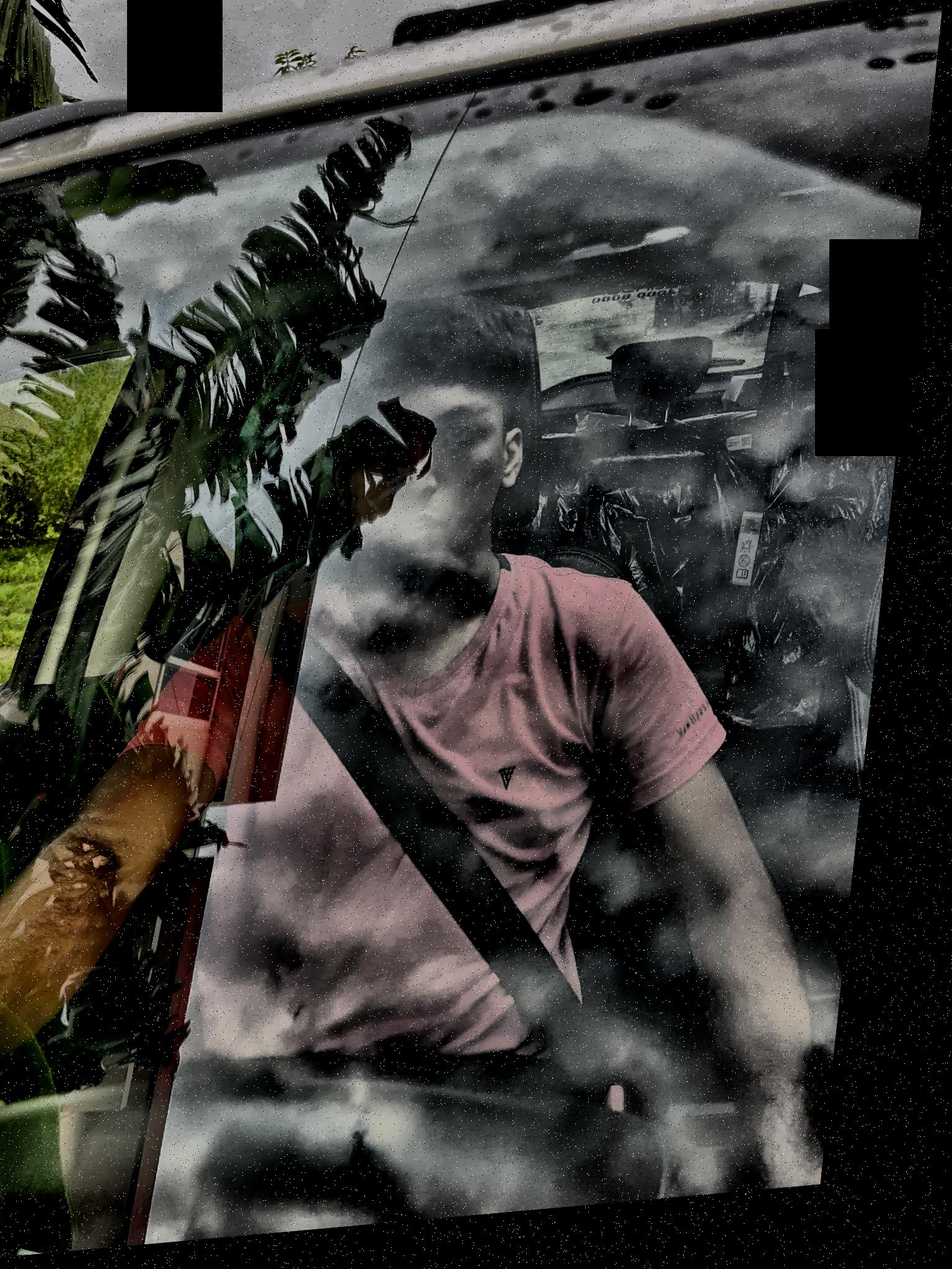seatbelt: (141, 450, 738, 1235)
